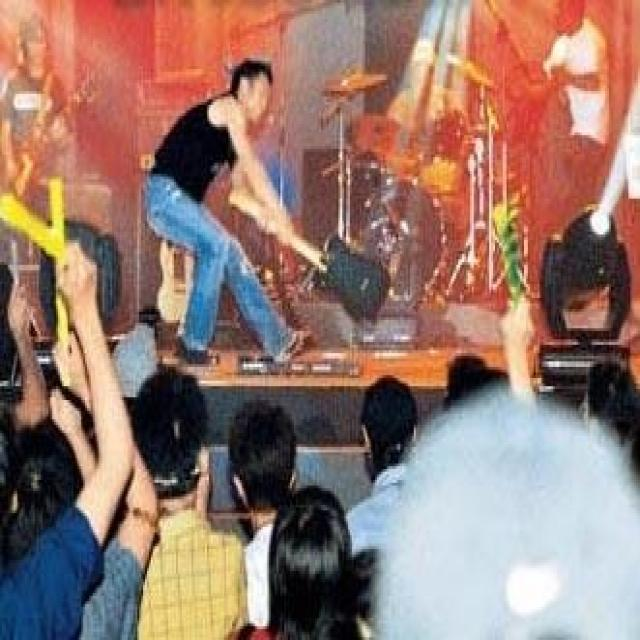drums: (317, 69, 536, 298)
guitar: (228, 186, 390, 322)
